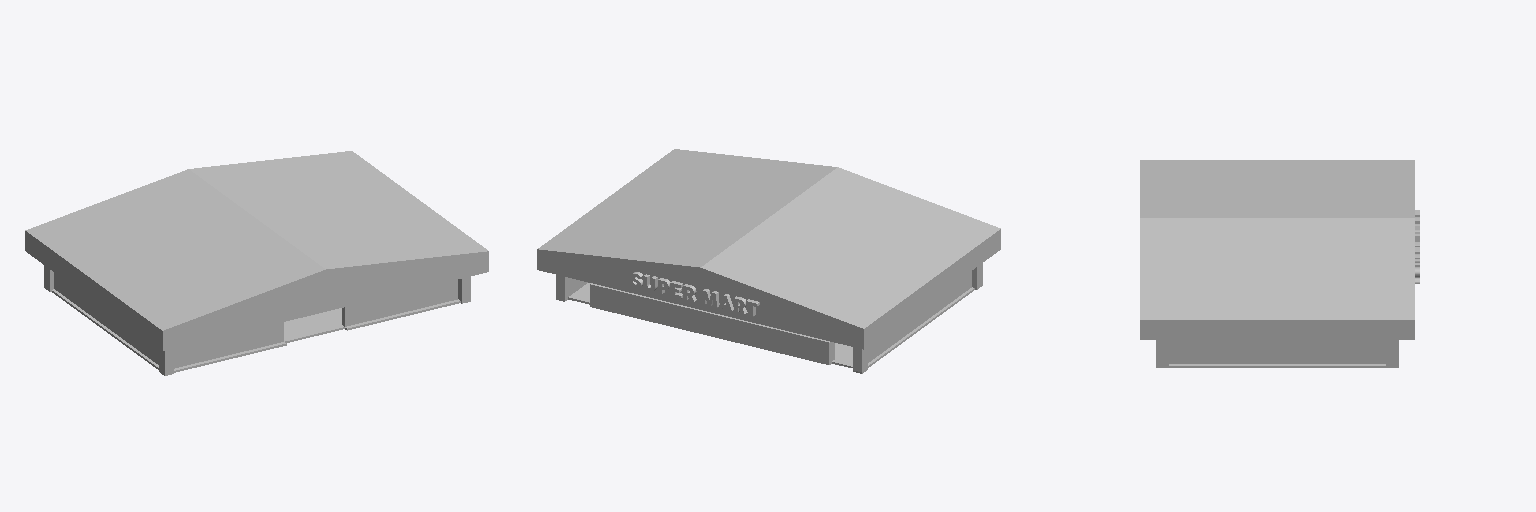
File: Mart.obj
3 views of the same model, side by side, from view 1: azimuth 30°, elevation 25°; view 2: azimuth 150°, elevation 25°; view 3: azimuth 270°, elevation 25° (orthographic).
Visible parts, largest first — view 1: pCube5; view 2: pCube5, Trim_Char_S_1_1; view 3: pCube5.
Boxes of the visible parts, x1,y1,x2,y2 form: pCube5: [25, 151, 488, 375]; pCube5: [537, 149, 1000, 373]; Trim_Char_S_1_1: [630, 272, 759, 316]; pCube5: [1140, 160, 1414, 367].
Bounding box in the file's own units: 165 × 36.36 × 122.